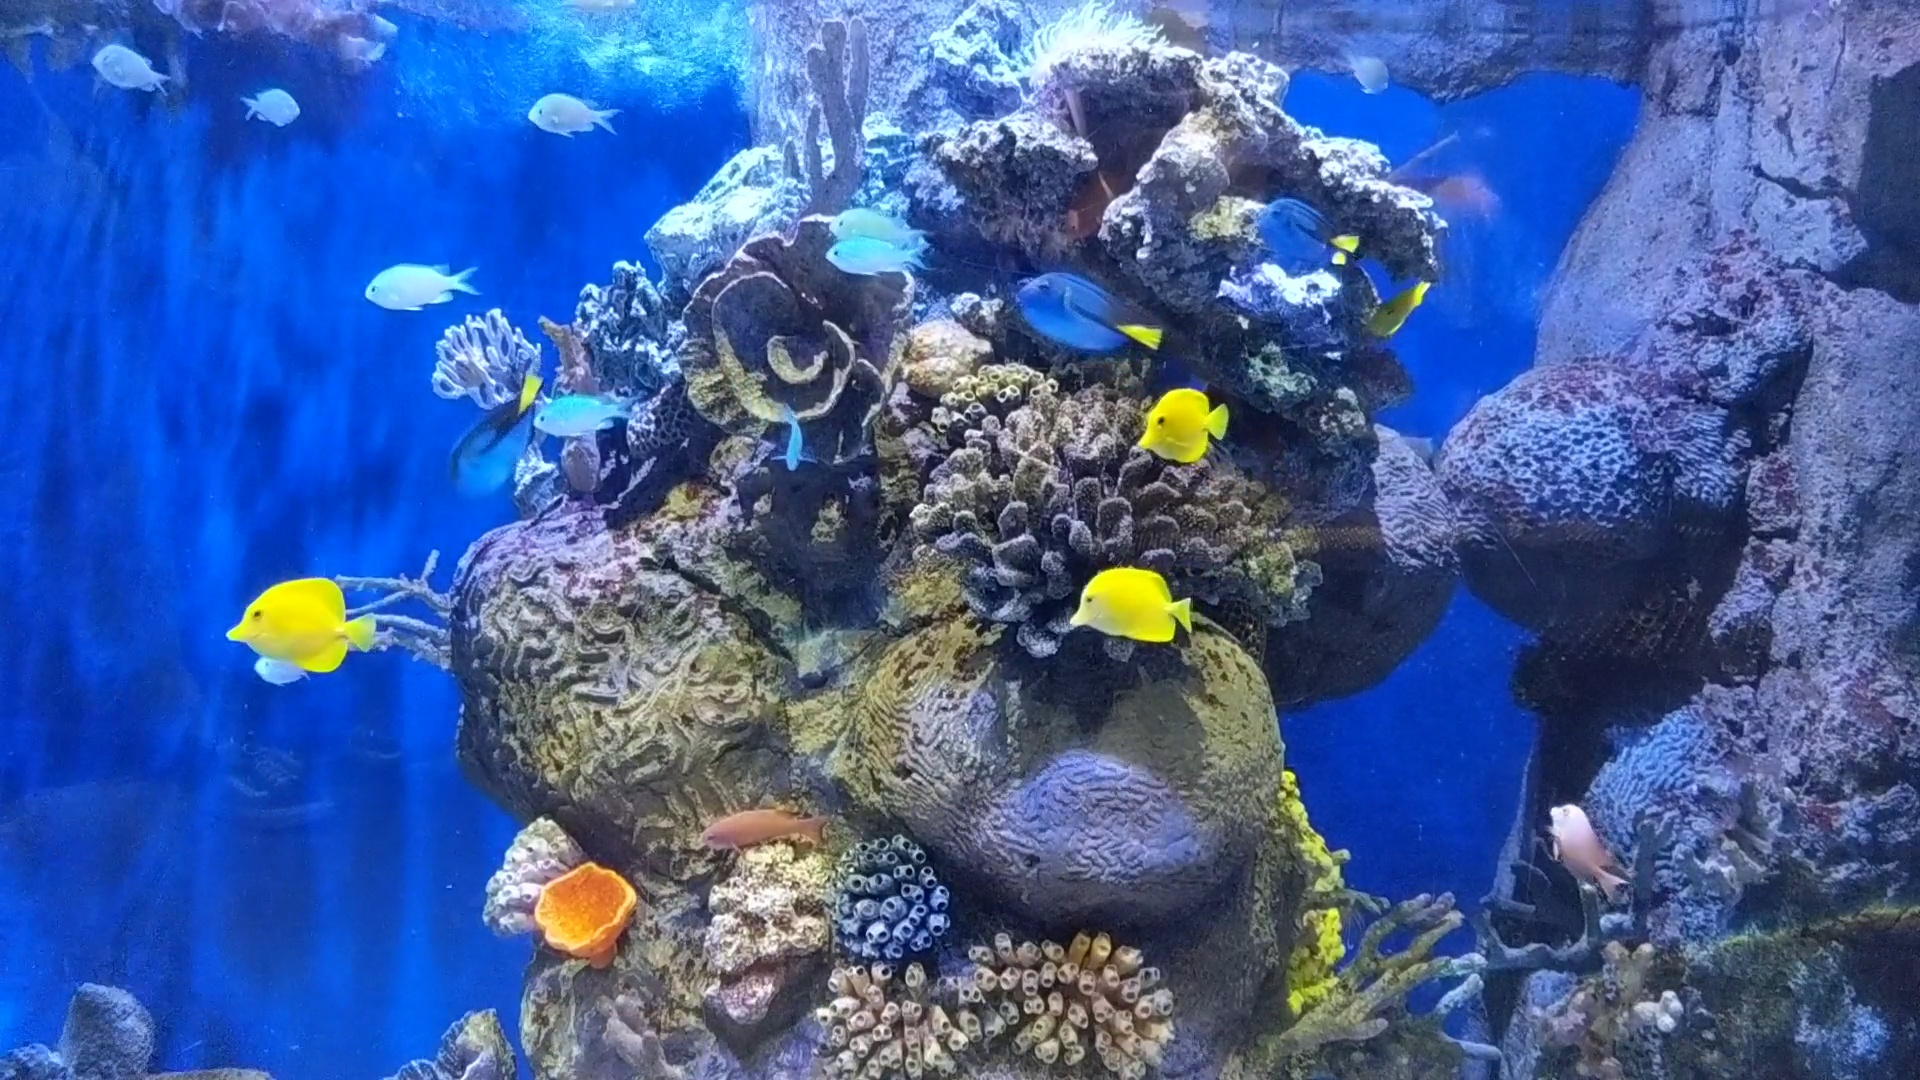blue tang surgeonfish: (1007, 253, 1174, 360), (440, 372, 550, 496), (1244, 179, 1360, 286)
damselfish: (352, 245, 488, 326), (516, 378, 647, 456), (73, 36, 174, 115), (516, 80, 624, 146), (829, 199, 931, 258), (814, 237, 928, 282), (232, 75, 314, 137), (1346, 44, 1398, 103), (771, 406, 811, 468)
pink fish: (1540, 796, 1633, 901)
saddle butterfly fish: (214, 568, 380, 676), (1047, 556, 1199, 647), (1120, 372, 1242, 480)
